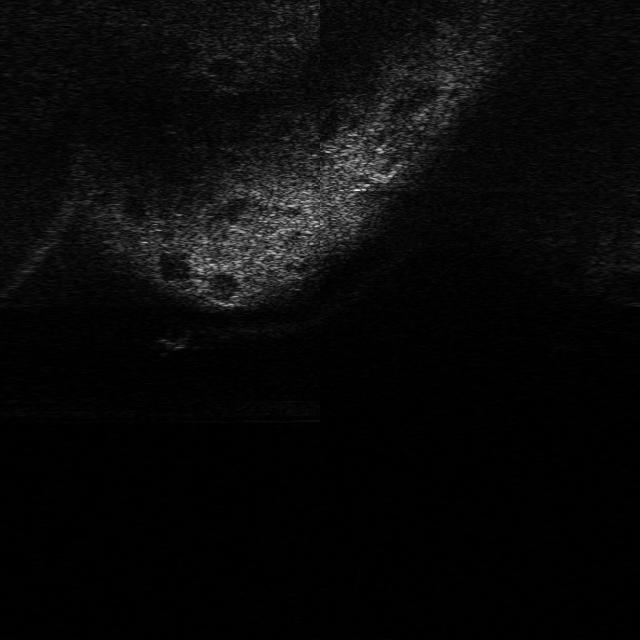cube: (153, 327, 194, 353)
